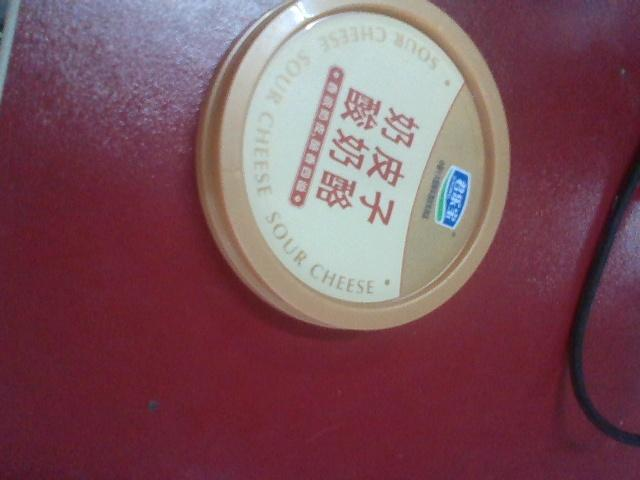lid: (173, 3, 515, 338)
